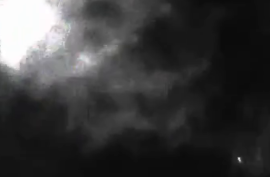Target: (237, 157, 240, 162)
